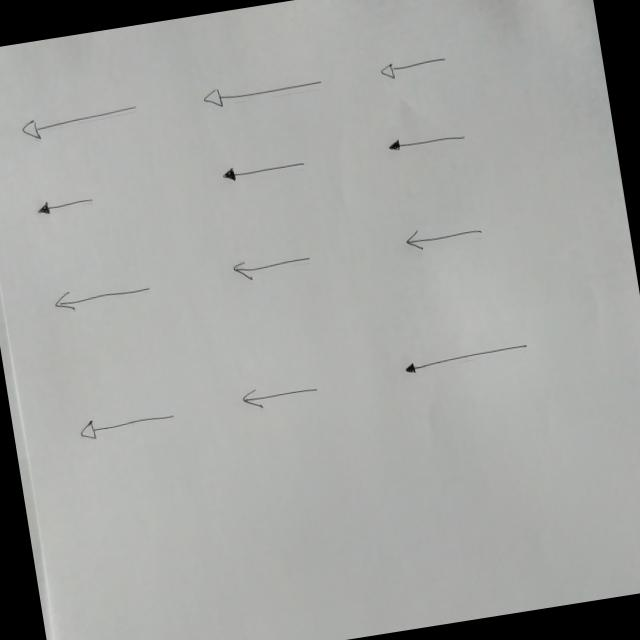arrow_line_left: (398, 334, 538, 381), (199, 66, 328, 116), (17, 98, 146, 138), (72, 399, 181, 446), (47, 275, 150, 318), (226, 244, 316, 288), (400, 215, 488, 260), (372, 42, 458, 88), (237, 372, 326, 414), (218, 152, 310, 188), (381, 122, 473, 158), (29, 190, 102, 222)
